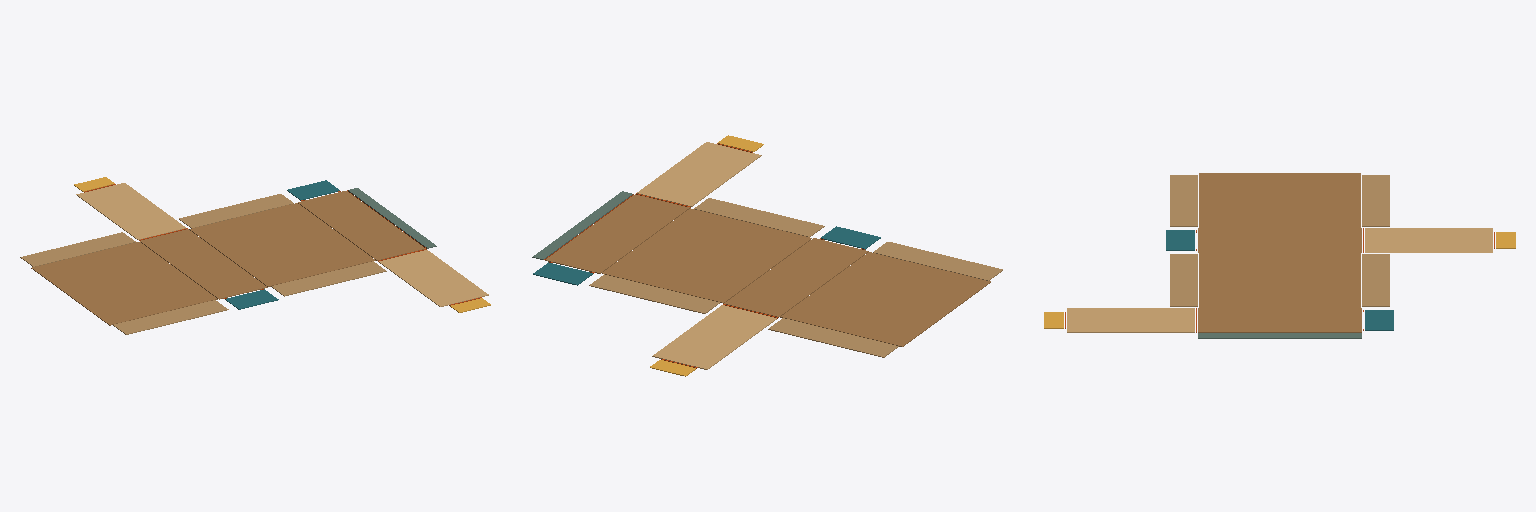
URDF robot description (finite_thickness_tuck_carton):
<?xml version='1.0' encoding='utf-8'?>
<robot name="finite_thickness_tuck_carton">
  <!-- SI units. Root: back_wall. All zero joints: flat net. The slot ears are separate collision boxes: do not convex-hull them together. -->
  <material name="kraft">
    <color rgba="0.69 0.52 0.34 1" />
  </material>
  <material name="lid">
    <color rgba="0.84 0.69 0.49 1" />
  </material>
  <material name="dust">
    <color rgba="0.75 0.61 0.43 1" />
  </material>
  <material name="margin">
    <color rgba="0.79 0.35 0.14 1" />
  </material>
  <material name="keeper">
    <color rgba="0.22 0.48 0.51 1" />
  </material>
  <material name="tab">
    <color rgba="0.92 0.7 0.31 1" />
  </material>
  <material name="glue">
    <color rgba="0.43 0.52 0.48 1" />
  </material>
  <link name="back_wall">
    <inertial>
      <origin xyz="0.025 0.07 0" rpy="0 0 0" />
      <mass value="0.003358603521" />
      <inertia ixx="5.42567926035e-06" iyy="6.78461113595e-07" izz="6.10386608799e-06" ixy="0" ixz="0" iyz="0" />
    </inertial>
    <visual name="back_wall_visual_0">
      <origin xyz="0.025 0.07 0" rpy="0 0 0" />
      <geometry>
        <box size="0.04923 0.13923 0.0007" />
      </geometry>
      <material name="kraft" />
    </visual>
    <collision name="back_wall_collision_0">
      <origin xyz="0.025 0.07 0" rpy="0 0 0" />
      <geometry>
        <box size="0.04923 0.13923 0.0007" />
      </geometry>
    </collision>
  </link>
  <link name="right_wall">
    <inertial>
      <origin xyz="0.055 0.07 0" rpy="0 0 0" />
      <mass value="0.007354554207" />
      <inertia ixx="1.15723898802e-05" iyy="7.31268405573e-06" izz="1.8884473314e-05" ixy="0" ixz="0" iyz="0" />
    </inertial>
    <visual name="right_wall_visual_0">
      <origin xyz="0.055 0.07 0" rpy="0 0 0" />
      <geometry>
        <box size="0.10923 0.13741 0.0007" />
      </geometry>
      <material name="kraft" />
    </visual>
    <collision name="right_wall_collision_0">
      <origin xyz="0.055 0.07 0" rpy="0 0 0" />
      <geometry>
        <box size="0.10923 0.13741 0.0007" />
      </geometry>
    </collision>
  </link>
  <link name="front_wall">
    <inertial>
      <origin xyz="0.025 0.07 0" rpy="0 0 0" />
      <mass value="0.003358603521" />
      <inertia ixx="5.42567926035e-06" iyy="6.78461113595e-07" izz="6.10386608799e-06" ixy="0" ixz="0" iyz="0" />
    </inertial>
    <visual name="front_wall_visual_0">
      <origin xyz="0.025 0.07 0" rpy="0 0 0" />
      <geometry>
        <box size="0.04923 0.13923 0.0007" />
      </geometry>
      <material name="kraft" />
    </visual>
    <collision name="front_wall_collision_0">
      <origin xyz="0.025 0.07 0" rpy="0 0 0" />
      <geometry>
        <box size="0.04923 0.13923 0.0007" />
      </geometry>
    </collision>
  </link>
  <link name="left_wall">
    <inertial>
      <origin xyz="-0.055 0.07 0" rpy="0 0 0" />
      <mass value="0.007354554207" />
      <inertia ixx="1.15723898802e-05" iyy="7.31268405573e-06" izz="1.8884473314e-05" ixy="0" ixz="0" iyz="0" />
    </inertial>
    <visual name="left_wall_visual_0">
      <origin xyz="-0.055 0.07 0" rpy="0 0 0" />
      <geometry>
        <box size="0.10923 0.13741 0.0007" />
      </geometry>
      <material name="kraft" />
    </visual>
    <collision name="left_wall_collision_0">
      <origin xyz="-0.055 0.07 0" rpy="0 0 0" />
      <geometry>
        <box size="0.10923 0.13741 0.0007" />
      </geometry>
    </collision>
  </link>
  <joint name="fold_right_wall" type="revolute">
    <parent link="back_wall" />
    <child link="right_wall" />
    <origin xyz="0.05 0 0" rpy="0 0 0" />
    <axis xyz="0 -1 0" />
    <limit lower="0" upper="1.57079632679" effort="0.05" velocity="2.0" />
    <dynamics damping="0.0001" friction="0" />
  </joint>
  <joint name="fold_front_wall" type="revolute">
    <parent link="right_wall" />
    <child link="front_wall" />
    <origin xyz="0.11 0 0" rpy="0 0 0" />
    <axis xyz="0 -1 0" />
    <limit lower="0" upper="1.57079632679" effort="0.05" velocity="2.0" />
    <dynamics damping="0.0001" friction="0" />
  </joint>
  <joint name="fold_left_wall" type="revolute">
    <parent link="back_wall" />
    <child link="left_wall" />
    <origin xyz="0 0 0" rpy="0 0 0" />
    <axis xyz="0 1 0" />
    <limit lower="0" upper="1.57079632679" effort="0.05" velocity="2.0" />
    <dynamics damping="0.0001" friction="0" />
  </joint>
  <link name="seam_margin">
    <inertial>
      <origin xyz="0.000455 0.07 0" rpy="0 0 0" />
      <mass value="9.551178e-06" />
      <inertia ixx="1.54295164828e-08" iyy="4.056066924e-13" izz="1.54291420766e-08" ixy="0" ixz="0" iyz="0" />
    </inertial>
    <visual name="seam_margin_visual_0">
      <origin xyz="0.000455 0.07 0" rpy="0 0 0" />
      <geometry>
        <box size="0.00014 0.13923 0.0007" />
      </geometry>
      <material name="margin" />
    </visual>
    <collision name="seam_margin_collision_0">
      <origin xyz="0.000455 0.07 0" rpy="0 0 0" />
      <geometry>
        <box size="0.00014 0.13923 0.0007" />
      </geometry>
    </collision>
  </link>
  <link name="glue_flap">
    <inertial>
      <origin xyz="0.0051925 0.07 0" rpy="0 0 0" />
      <mass value="0.0006559612605" />
      <inertia ixx="1.05967714987e-06" iyy="5.08032293497e-09" izz="1.06470390264e-06" ixy="0" ixz="0" iyz="0" />
    </inertial>
    <visual name="glue_flap_visual_0">
      <origin xyz="0.0051925 0.07 0" rpy="0 0 0" />
      <geometry>
        <box size="0.009615 0.13923 0.0007" />
      </geometry>
      <material name="glue" />
    </visual>
    <collision name="glue_flap_collision_0">
      <origin xyz="0.0051925 0.07 0" rpy="0 0 0" />
      <geometry>
        <box size="0.009615 0.13923 0.0007" />
      </geometry>
    </collision>
  </link>
  <joint name="seam_margin_fold" type="revolute">
    <parent link="front_wall" />
    <child link="seam_margin" />
    <origin xyz="0.05 0 0" rpy="0 0 0" />
    <axis xyz="0 -1 0" />
    <limit lower="-0.523598775598" upper="0.523598775598" effort="0.05" velocity="2.0" />
    <dynamics damping="0.0001" friction="0" />
  </joint>
  <joint name="glue_flap_fold" type="revolute">
    <parent link="seam_margin" />
    <child link="glue_flap" />
    <origin xyz="0.00091 0 0" rpy="0 0 0" />
    <axis xyz="0 -1 0" />
    <limit lower="0" upper="1.57079632679" effort="0.05" velocity="2.0" />
    <dynamics damping="0.0001" friction="0" />
  </joint>
  <link name="top_socket_margin">
    <inertial>
      <origin xyz="0 0.00091 0" rpy="0 0 0" />
      <mass value="3.215625e-06" />
      <inertia ixx="4.26740234375e-13" iyy="1.10478357227e-09" izz="1.10494770312e-09" ixy="0" ixz="0" iyz="0" />
    </inertial>
    <visual name="top_socket_margin_visual_0">
      <origin xyz="-0.0185125 0.00091 0" rpy="0 0 0" />
      <geometry>
        <box size="0.003125 0.00105 0.0007" />
      </geometry>
      <material name="margin" />
    </visual>
    <collision name="top_socket_margin_collision_0">
      <origin xyz="-0.0185125 0.00091 0" rpy="0 0 0" />
      <geometry>
        <box size="0.003125 0.00105 0.0007" />
      </geometry>
    </collision>
    <visual name="top_socket_margin_visual_1">
      <origin xyz="0.0185125 0.00091 0" rpy="0 0 0" />
      <geometry>
        <box size="0.003125 0.00105 0.0007" />
      </geometry>
      <material name="margin" />
    </visual>
    <collision name="top_socket_margin_collision_1">
      <origin xyz="0.0185125 0.00091 0" rpy="0 0 0" />
      <geometry>
        <box size="0.003125 0.00105 0.0007" />
      </geometry>
    </collision>
  </link>
  <link name="top_socket_keeper">
    <inertial>
      <origin xyz="0 0.0126330079213 0" rpy="0 0 0" />
      <mass value="0.000481922367678" />
      <inertia ixx="2.41179973444e-08" iyy="6.47588201592e-08" izz="8.88374605102e-08" ixy="0" ixz="0" iyz="0" />
    </inertial>
    <visual name="top_socket_keeper_visual_0">
      <origin xyz="0 0.0126330079213 0" rpy="0 0 0" />
      <geometry>
        <box size="0.04015 0.0244960158425 0.0007" />
      </geometry>
      <material name="keeper" />
    </visual>
    <collision name="top_socket_keeper_collision_0">
      <origin xyz="0 0.0126330079213 0" rpy="0 0 0" />
      <geometry>
        <box size="0.04015 0.0244960158425 0.0007" />
      </geometry>
    </collision>
  </link>
  <joint name="top_socket_base" type="revolute">
    <parent link="front_wall" />
    <child link="top_socket_margin" />
    <origin xyz="0.025 0.14 0" rpy="0 0 0" />
    <axis xyz="1 0 0" />
    <limit lower="0" upper="1.57079632679" effort="0.05" velocity="2.0" />
    <dynamics damping="0.0001" friction="0" />
  </joint>
  <joint name="top_socket_return" type="revolute">
    <parent link="top_socket_margin" />
    <child link="top_socket_keeper" />
    <origin xyz="0 0.00182 0" rpy="0 0 0" />
    <axis xyz="1 0 0" />
    <limit lower="0" upper="1.57079632679" effort="0.05" velocity="2.0" />
    <dynamics damping="0.0001" friction="0" />
  </joint>
  <link name="bottom_socket_margin">
    <inertial>
      <origin xyz="0 0.00091 0" rpy="0 0 0" />
      <mass value="3.215625e-06" />
      <inertia ixx="4.26740234375e-13" iyy="1.10478357227e-09" izz="1.10494770312e-09" ixy="0" ixz="0" iyz="0" />
    </inertial>
    <visual name="bottom_socket_margin_visual_0">
      <origin xyz="-0.0185125 0.00091 0" rpy="0 0 0" />
      <geometry>
        <box size="0.003125 0.00105 0.0007" />
      </geometry>
      <material name="margin" />
    </visual>
    <collision name="bottom_socket_margin_collision_0">
      <origin xyz="-0.0185125 0.00091 0" rpy="0 0 0" />
      <geometry>
        <box size="0.003125 0.00105 0.0007" />
      </geometry>
    </collision>
    <visual name="bottom_socket_margin_visual_1">
      <origin xyz="0.0185125 0.00091 0" rpy="0 0 0" />
      <geometry>
        <box size="0.003125 0.00105 0.0007" />
      </geometry>
      <material name="margin" />
    </visual>
    <collision name="bottom_socket_margin_collision_1">
      <origin xyz="0.0185125 0.00091 0" rpy="0 0 0" />
      <geometry>
        <box size="0.003125 0.00105 0.0007" />
      </geometry>
    </collision>
  </link>
  <link name="bottom_socket_keeper">
    <inertial>
      <origin xyz="0 0.0126330079213 0" rpy="0 0 0" />
      <mass value="0.000481922367678" />
      <inertia ixx="2.41179973444e-08" iyy="6.47588201592e-08" izz="8.88374605102e-08" ixy="0" ixz="0" iyz="0" />
    </inertial>
    <visual name="bottom_socket_keeper_visual_0">
      <origin xyz="0 0.0126330079213 0" rpy="0 0 0" />
      <geometry>
        <box size="0.04015 0.0244960158425 0.0007" />
      </geometry>
      <material name="keeper" />
    </visual>
    <collision name="bottom_socket_keeper_collision_0">
      <origin xyz="0 0.0126330079213 0" rpy="0 0 0" />
      <geometry>
        <box size="0.04015 0.0244960158425 0.0007" />
      </geometry>
    </collision>
  </link>
  <joint name="bottom_socket_base" type="revolute">
    <parent link="back_wall" />
    <child link="bottom_socket_margin" />
    <origin xyz="0.025 0 0" rpy="0 0 3.14159265359" />
    <axis xyz="1 0 0" />
    <limit lower="0" upper="1.57079632679" effort="0.05" velocity="2.0" />
    <dynamics damping="0.0001" friction="0" />
  </joint>
  <joint name="bottom_socket_return" type="revolute">
    <parent link="bottom_socket_margin" />
    <child link="bottom_socket_keeper" />
    <origin xyz="0 0.00182 0" rpy="0 0 0" />
    <axis xyz="1 0 0" />
    <limit lower="0" upper="1.57079632679" effort="0.05" velocity="2.0" />
    <dynamics damping="0.0001" friction="0" />
  </joint>
  <link name="top_lid_margin">
    <inertial>
      <origin xyz="0 0.00091 0" rpy="0 0 0" />
      <mass value="2.5328835e-05" />
      <inertia ixx="3.36134747813e-12" iyy="5.11659965004e-09" izz="5.11789247599e-09" ixy="0" ixz="0" iyz="0" />
    </inertial>
    <visual name="top_lid_margin_visual_0">
      <origin xyz="0 0.00091 0" rpy="0 0 0" />
      <geometry>
        <box size="0.04923 0.00105 0.0007" />
      </geometry>
      <material name="margin" />
    </visual>
    <collision name="top_lid_margin_collision_0">
      <origin xyz="0 0.00091 0" rpy="0 0 0" />
      <geometry>
        <box size="0.04923 0.00105 0.0007" />
      </geometry>
    </collision>
  </link>
  <link name="top_lid">
    <inertial>
      <origin xyz="0 0.054545 0" rpy="0 0 0" />
      <mass value="0.002612970864" />
      <inertia ixx="2.55498738565e-06" iyy="5.27838165802e-07" izz="3.08261215883e-06" ixy="0" ixz="0" iyz="0" />
    </inertial>
    <visual name="top_lid_visual_0">
      <origin xyz="0 0.054545 0" rpy="0 0 0" />
      <geometry>
        <box size="0.04923 0.10832 0.0007" />
      </geometry>
      <material name="lid" />
    </visual>
    <collision name="top_lid_collision_0">
      <origin xyz="0 0.054545 0" rpy="0 0 0" />
      <geometry>
        <box size="0.04923 0.10832 0.0007" />
      </geometry>
    </collision>
  </link>
  <link name="top_tuck_margin">
    <inertial>
      <origin xyz="0 0.00091 0" rpy="0 0 0" />
      <mass value="1.672125e-05" />
      <inertia ixx="2.21904921875e-12" iyy="1.47250114375e-09" izz="1.47335462422e-09" ixy="0" ixz="0" iyz="0" />
    </inertial>
    <visual name="top_tuck_margin_visual_0">
      <origin xyz="0 0.00091 0" rpy="0 0 0" />
      <geometry>
        <box size="0.0325 0.00105 0.0007" />
      </geometry>
      <material name="margin" />
    </visual>
    <collision name="top_tuck_margin_collision_0">
      <origin xyz="0 0.00091 0" rpy="0 0 0" />
      <geometry>
        <box size="0.0325 0.00105 0.0007" />
      </geometry>
    </collision>
  </link>
  <link name="top_tuck_tab">
    <inertial>
      <origin xyz="0 0.00850800792126 0" rpy="0 0 0" />
      <mass value="0.000258717802292" />
      <inertia ixx="5.70091211603e-09" iyy="2.27831208662e-08" izz="2.84629043617e-08" ixy="0" ixz="0" iyz="0" />
    </inertial>
    <visual name="top_tuck_tab_visual_0">
      <origin xyz="0 0.00850800792126 0" rpy="0 0 0" />
      <geometry>
        <box size="0.0325 0.0162460158425 0.0007" />
      </geometry>
      <material name="tab" />
    </visual>
    <collision name="top_tuck_tab_collision_0">
      <origin xyz="0 0.00850800792126 0" rpy="0 0 0" />
      <geometry>
        <box size="0.0325 0.0162460158425 0.0007" />
      </geometry>
    </collision>
  </link>
  <joint name="top_lid_margin_fold" type="revolute">
    <parent link="back_wall" />
    <child link="top_lid_margin" />
    <origin xyz="0.025 0.14 0" rpy="0 0 0" />
    <axis xyz="1 0 0" />
    <limit lower="-0.523598775598" upper="0.523598775598" effort="0.05" velocity="2.0" />
    <dynamics damping="0.0001" friction="0" />
  </joint>
  <joint name="top_lid_fold" type="revolute">
    <parent link="top_lid_margin" />
    <child link="top_lid" />
    <origin xyz="0 0.00182 0" rpy="0 0 0" />
    <axis xyz="1 0 0" />
    <limit lower="0" upper="1.57079632679" effort="0.05" velocity="2.0" />
    <dynamics damping="0.0001" friction="0" />
  </joint>
  <joint name="top_tuck_margin_fold" type="revolute">
    <parent link="top_lid" />
    <child link="top_tuck_margin" />
    <origin xyz="0 0.10909 0" rpy="0 0 0" />
    <axis xyz="1 0 0" />
    <limit lower="0" upper="1.83259571459" effort="0.05" velocity="2.0" />
    <dynamics damping="0.0001" friction="0" />
  </joint>
  <joint name="top_tuck_tab_fold" type="revolute">
    <parent link="top_tuck_margin" />
    <child link="top_tuck_tab" />
    <origin xyz="0 0.00182 0" rpy="0 0 0" />
    <axis xyz="1 0 0" />
    <limit lower="0" upper="1.57079632679" effort="0.05" velocity="2.0" />
    <dynamics damping="0.0001" friction="0" />
  </joint>
  <link name="bottom_lid_margin">
    <inertial>
      <origin xyz="0 0.00091 0" rpy="0 0 0" />
      <mass value="2.5328835e-05" />
      <inertia ixx="3.36134747813e-12" iyy="5.11659965004e-09" izz="5.11789247599e-09" ixy="0" ixz="0" iyz="0" />
    </inertial>
    <visual name="bottom_lid_margin_visual_0">
      <origin xyz="0 0.00091 0" rpy="0 0 0" />
      <geometry>
        <box size="0.04923 0.00105 0.0007" />
      </geometry>
      <material name="margin" />
    </visual>
    <collision name="bottom_lid_margin_collision_0">
      <origin xyz="0 0.00091 0" rpy="0 0 0" />
      <geometry>
        <box size="0.04923 0.00105 0.0007" />
      </geometry>
    </collision>
  </link>
  <link name="bottom_lid">
    <inertial>
      <origin xyz="0 0.054545 0" rpy="0 0 0" />
      <mass value="0.002612970864" />
      <inertia ixx="2.55498738565e-06" iyy="5.27838165802e-07" izz="3.08261215883e-06" ixy="0" ixz="0" iyz="0" />
    </inertial>
    <visual name="bottom_lid_visual_0">
      <origin xyz="0 0.054545 0" rpy="0 0 0" />
      <geometry>
        <box size="0.04923 0.10832 0.0007" />
      </geometry>
      <material name="lid" />
    </visual>
    <collision name="bottom_lid_collision_0">
      <origin xyz="0 0.054545 0" rpy="0 0 0" />
      <geometry>
        <box size="0.04923 0.10832 0.0007" />
      </geometry>
    </collision>
  </link>
  <link name="bottom_tuck_margin">
    <inertial>
      <origin xyz="0 0.00091 0" rpy="0 0 0" />
      <mass value="1.672125e-05" />
      <inertia ixx="2.21904921875e-12" iyy="1.47250114375e-09" izz="1.47335462422e-09" ixy="0" ixz="0" iyz="0" />
    </inertial>
    <visual name="bottom_tuck_margin_visual_0">
      <origin xyz="0 0.00091 0" rpy="0 0 0" />
      <geometry>
        <box size="0.0325 0.00105 0.0007" />
      </geometry>
      <material name="margin" />
    </visual>
    <collision name="bottom_tuck_margin_collision_0">
      <origin xyz="0 0.00091 0" rpy="0 0 0" />
      <geometry>
        <box size="0.0325 0.00105 0.0007" />
      </geometry>
    </collision>
  </link>
  <link name="bottom_tuck_tab">
    <inertial>
      <origin xyz="0 0.00850800792126 0" rpy="0 0 0" />
      <mass value="0.000258717802292" />
      <inertia ixx="5.70091211603e-09" iyy="2.27831208662e-08" izz="2.84629043617e-08" ixy="0" ixz="0" iyz="0" />
    </inertial>
    <visual name="bottom_tuck_tab_visual_0">
      <origin xyz="0 0.00850800792126 0" rpy="0 0 0" />
      <geometry>
        <box size="0.0325 0.0162460158425 0.0007" />
      </geometry>
      <material name="tab" />
    </visual>
    <collision name="bottom_tuck_tab_collision_0">
      <origin xyz="0 0.00850800792126 0" rpy="0 0 0" />
      <geometry>
        <box size="0.0325 0.0162460158425 0.0007" />
      </geometry>
    </collision>
  </link>
  <joint name="bottom_lid_margin_fold" type="revolute">
    <parent link="front_wall" />
    <child link="bottom_lid_margin" />
    <origin xyz="0.025 0 0" rpy="0 0 3.14159265359" />
    <axis xyz="1 0 0" />
    <limit lower="-0.523598775598" upper="0.523598775598" effort="0.05" velocity="2.0" />
    <dynamics damping="0.0001" friction="0" />
  </joint>
  <joint name="bottom_lid_fold" type="revolute">
    <parent link="bottom_lid_margin" />
    <child link="bottom_lid" />
    <origin xyz="0 0.00182 0" rpy="0 0 0" />
    <axis xyz="1 0 0" />
    <limit lower="0" upper="1.57079632679" effort="0.05" velocity="2.0" />
    <dynamics damping="0.0001" friction="0" />
  </joint>
  <joint name="bottom_tuck_margin_fold" type="revolute">
    <parent link="bottom_lid" />
    <child link="bottom_tuck_margin" />
    <origin xyz="0 0.10909 0" rpy="0 0 0" />
    <axis xyz="1 0 0" />
    <limit lower="0" upper="1.83259571459" effort="0.05" velocity="2.0" />
    <dynamics damping="0.0001" friction="0" />
  </joint>
  <joint name="bottom_tuck_tab_fold" type="revolute">
    <parent link="bottom_tuck_margin" />
    <child link="bottom_tuck_tab" />
    <origin xyz="0 0.00182 0" rpy="0 0 0" />
    <axis xyz="1 0 0" />
    <limit lower="0" upper="1.57079632679" effort="0.05" velocity="2.0" />
    <dynamics damping="0.0001" friction="0" />
  </joint>
  <link name="top_right_dust">
    <inertial>
      <origin xyz="0 0.0119925 0" rpy="0 0 0" />
      <mass value="0.001178031246" />
      <inertia ixx="5.29550789968e-08" iyy="1.05288148661e-06" izz="1.10574035972e-06" ixy="0" ixz="0" iyz="0" />
    </inertial>
    <visual name="top_right_dust_visual_0">
      <origin xyz="0 0.0119925 0" rpy="0 0 0" />
      <geometry>
        <box size="0.10356 0.023215 0.0007" />
      </geometry>
      <material name="dust" />
    </visual>
    <collision name="top_right_dust_collision_0">
      <origin xyz="0 0.0119925 0" rpy="0 0 0" />
      <geometry>
        <box size="0.10356 0.023215 0.0007" />
      </geometry>
    </collision>
  </link>
  <joint name="top_right_dust_fold" type="revolute">
    <parent link="right_wall" />
    <child link="top_right_dust" />
    <origin xyz="0.055 0.13909 0" rpy="0 0 0" />
    <axis xyz="1 0 0" />
    <limit lower="0" upper="1.57079632679" effort="0.05" velocity="2.0" />
    <dynamics damping="0.0001" friction="0" />
  </joint>
  <link name="bottom_right_dust">
    <inertial>
      <origin xyz="0 0.0119925 0" rpy="0 0 0" />
      <mass value="0.001178031246" />
      <inertia ixx="5.29550789968e-08" iyy="1.05288148661e-06" izz="1.10574035972e-06" ixy="0" ixz="0" iyz="0" />
    </inertial>
    <visual name="bottom_right_dust_visual_0">
      <origin xyz="0 0.0119925 0" rpy="0 0 0" />
      <geometry>
        <box size="0.10356 0.023215 0.0007" />
      </geometry>
      <material name="dust" />
    </visual>
    <collision name="bottom_right_dust_collision_0">
      <origin xyz="0 0.0119925 0" rpy="0 0 0" />
      <geometry>
        <box size="0.10356 0.023215 0.0007" />
      </geometry>
    </collision>
  </link>
  <joint name="bottom_right_dust_fold" type="revolute">
    <parent link="right_wall" />
    <child link="bottom_right_dust" />
    <origin xyz="0.055 0.00091 0" rpy="0 0 3.14159265359" />
    <axis xyz="1 0 0" />
    <limit lower="0" upper="1.57079632679" effort="0.05" velocity="2.0" />
    <dynamics damping="0.0001" friction="0" />
  </joint>
  <link name="top_left_dust">
    <inertial>
      <origin xyz="0 0.0119925 0" rpy="0 0 0" />
      <mass value="0.001178031246" />
      <inertia ixx="5.29550789968e-08" iyy="1.05288148661e-06" izz="1.10574035972e-06" ixy="0" ixz="0" iyz="0" />
    </inertial>
    <visual name="top_left_dust_visual_0">
      <origin xyz="0 0.0119925 0" rpy="0 0 0" />
      <geometry>
        <box size="0.10356 0.023215 0.0007" />
      </geometry>
      <material name="dust" />
    </visual>
    <collision name="top_left_dust_collision_0">
      <origin xyz="0 0.0119925 0" rpy="0 0 0" />
      <geometry>
        <box size="0.10356 0.023215 0.0007" />
      </geometry>
    </collision>
  </link>
  <joint name="top_left_dust_fold" type="revolute">
    <parent link="left_wall" />
    <child link="top_left_dust" />
    <origin xyz="-0.055 0.13909 0" rpy="0 0 0" />
    <axis xyz="1 0 0" />
    <limit lower="0" upper="1.57079632679" effort="0.05" velocity="2.0" />
    <dynamics damping="0.0001" friction="0" />
  </joint>
  <link name="bottom_left_dust">
    <inertial>
      <origin xyz="0 0.0119925 0" rpy="0 0 0" />
      <mass value="0.001178031246" />
      <inertia ixx="5.29550789968e-08" iyy="1.05288148661e-06" izz="1.10574035972e-06" ixy="0" ixz="0" iyz="0" />
    </inertial>
    <visual name="bottom_left_dust_visual_0">
      <origin xyz="0 0.0119925 0" rpy="0 0 0" />
      <geometry>
        <box size="0.10356 0.023215 0.0007" />
      </geometry>
      <material name="dust" />
    </visual>
    <collision name="bottom_left_dust_collision_0">
      <origin xyz="0 0.0119925 0" rpy="0 0 0" />
      <geometry>
        <box size="0.10356 0.023215 0.0007" />
      </geometry>
    </collision>
  </link>
  <joint name="bottom_left_dust_fold" type="revolute">
    <parent link="left_wall" />
    <child link="bottom_left_dust" />
    <origin xyz="-0.055 0.00091 0" rpy="0 0 3.14159265359" />
    <axis xyz="1 0 0" />
    <limit lower="0" upper="1.57079632679" effort="0.05" velocity="2.0" />
    <dynamics damping="0.0001" friction="0" />
  </joint>
</robot>

--- Render facts (derived) ---
The picture shows the robot from 3 angles, left to right: view 1: azimuth 30°, elevation 25°; view 2: azimuth 150°, elevation 25°; view 3: azimuth 270°, elevation 25°; orthographic projection.
Model finite_thickness_tuck_carton with 22 links and 21 joints (21 revolute), rooted at back_wall, posed every joint at zero.
Links seen in each view (by area): view 1: left_wall, right_wall, back_wall, front_wall, bottom_lid, top_lid, bottom_right_dust, bottom_left_dust, top_left_dust, top_right_dust, glue_flap, bottom_socket_keeper (+1 smaller); view 2: left_wall, right_wall, front_wall, back_wall, top_lid, bottom_lid, top_right_dust, top_left_dust, bottom_left_dust, bottom_right_dust, glue_flap, top_socket_keeper (+1 smaller); view 3: right_wall, left_wall, back_wall, front_wall, top_lid, bottom_lid, top_right_dust, bottom_right_dust, top_left_dust, bottom_left_dust, glue_flap, top_socket_keeper (+1 smaller).
Link boxes in pixels (x1,y1,x2,y2): left_wall: [31, 242, 217, 325]; right_wall: [189, 203, 375, 286]; back_wall: [140, 229, 267, 299]; front_wall: [298, 191, 425, 260]; bottom_lid: [379, 250, 488, 306]; top_lid: [76, 183, 185, 239]; bottom_right_dust: [271, 261, 386, 296]; bottom_left_dust: [113, 300, 228, 334]; top_left_dust: [20, 232, 135, 266]; top_right_dust: [179, 194, 293, 228]; glue_flap: [348, 188, 436, 248]; bottom_socket_keeper: [225, 289, 278, 309]; left_wall: [780, 252, 990, 346]; right_wall: [602, 208, 811, 303]; front_wall: [545, 194, 689, 273]; back_wall: [724, 238, 868, 317]; top_lid: [652, 305, 776, 369]; bottom_lid: [637, 142, 761, 206]; top_right_dust: [589, 274, 719, 313]; top_left_dust: [768, 318, 898, 357]; bottom_left_dust: [873, 242, 1002, 280]; bottom_right_dust: [694, 198, 824, 236]; glue_flap: [532, 191, 632, 259]; top_socket_keeper: [533, 262, 592, 285]; right_wall: [1199, 253, 1360, 307]; left_wall: [1199, 173, 1360, 227]; back_wall: [1198, 228, 1361, 252]; front_wall: [1198, 308, 1361, 332]; top_lid: [1365, 228, 1492, 252]; bottom_lid: [1067, 308, 1194, 332]; top_right_dust: [1362, 254, 1389, 306]; bottom_right_dust: [1170, 254, 1197, 306]; top_left_dust: [1362, 175, 1389, 226]; bottom_left_dust: [1170, 175, 1197, 226]; glue_flap: [1198, 333, 1361, 338]; top_socket_keeper: [1365, 310, 1393, 330].
Bounding box of the posed robot: 0.3305 × 0.3987 × 0.0007 m (x, y, z).
Geometry: primitives only (box / cylinder / sphere), no mesh files.
